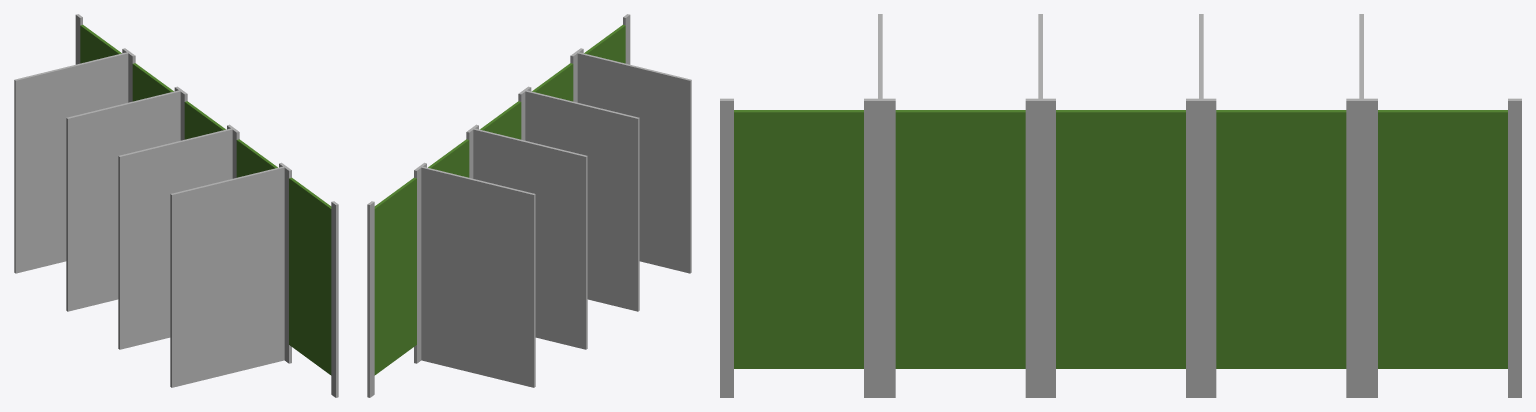
The model's file is Cabinet.fbx.
The picture shows the model from 3 angles, left to right: view 1: azimuth 30°, elevation 25°; view 2: azimuth 150°, elevation 25°; view 3: azimuth 270°, elevation 25°; orthographic projection. The views are drawn at different scales.
Parts seen in each view (by area): view 1: Cabinet, Door05, Door04, Door03, Door02, Door01; view 2: Cabinet, Door01, Door02, Door03, Door04, Door05; view 3: Cabinet, Door02, Door04, Door05, Door01, Door03.
Part boxes in pixels (<box>): Cabinet: <box>14,14,338,397</box>; Door05: <box>289,177,331,375</box>; Door04: <box>236,139,277,177</box>; Door03: <box>184,101,225,139</box>; Door02: <box>132,63,173,101</box>; Door01: <box>80,25,121,63</box>; Cabinet: <box>367,14,691,397</box>; Door01: <box>374,177,416,375</box>; Door02: <box>428,139,469,177</box>; Door03: <box>480,101,521,139</box>; Door04: <box>532,63,573,101</box>; Door05: <box>584,25,625,63</box>; Cabinet: <box>720,14,1521,397</box>; Door02: <box>1216,110,1346,368</box>; Door04: <box>895,110,1025,368</box>; Door05: <box>734,110,863,368</box>; Door01: <box>1378,110,1507,368</box>; Door03: <box>1056,110,1185,368</box>.
Size of the model in its own units: 1.54 by 6 by 2.45.
